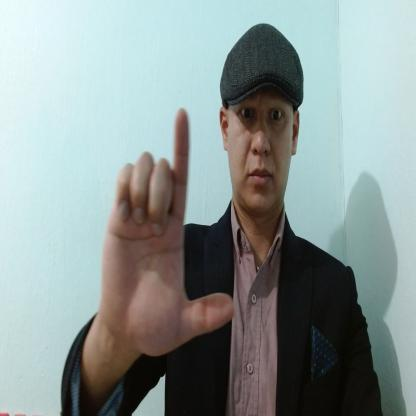L: (103, 107, 235, 354)
